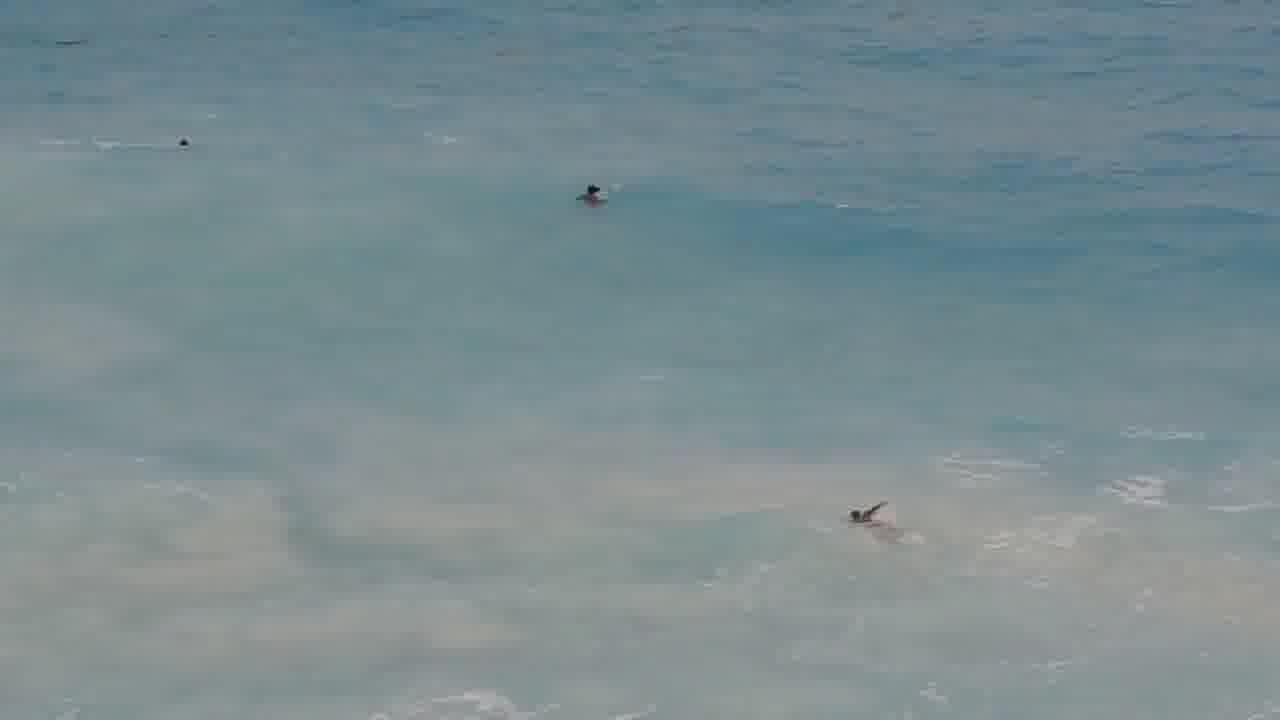human: (826, 502, 886, 537), (569, 175, 607, 211), (169, 129, 207, 158)
